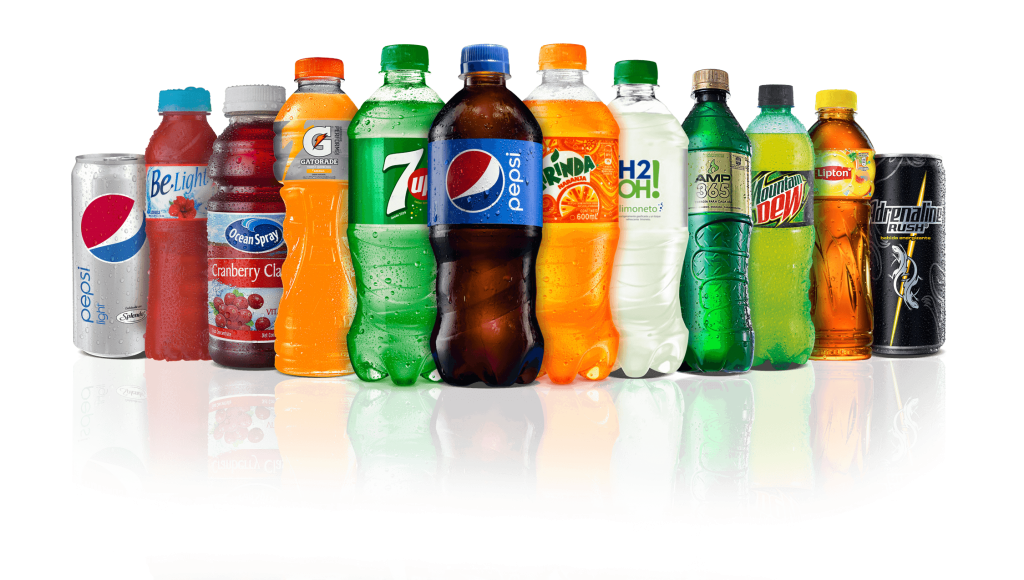pepsi: (444, 148, 504, 211)
